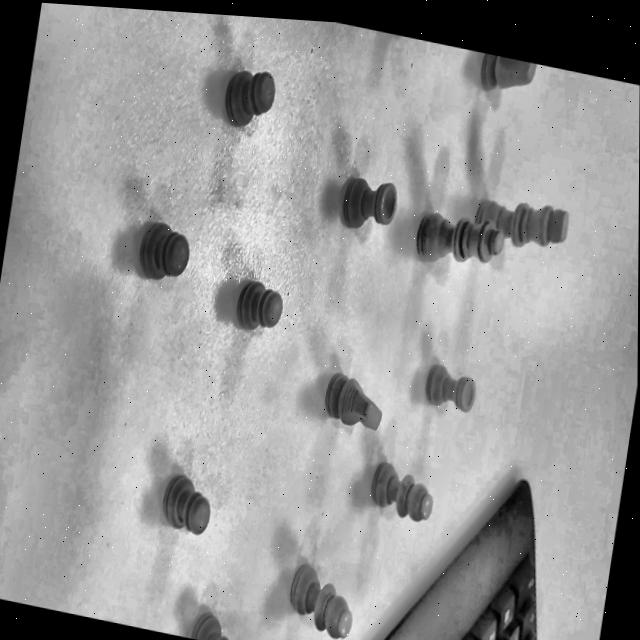white-bishop: (286, 560, 359, 640), (368, 459, 438, 525)
white-king: (473, 190, 572, 255)
white-knight: (321, 368, 388, 433), (478, 52, 538, 99)
white-pawn: (221, 62, 280, 134), (158, 469, 217, 539), (136, 217, 195, 286), (235, 276, 288, 337)
white-queen: (414, 198, 514, 285)
white-rook: (340, 172, 402, 237), (423, 360, 479, 415)
